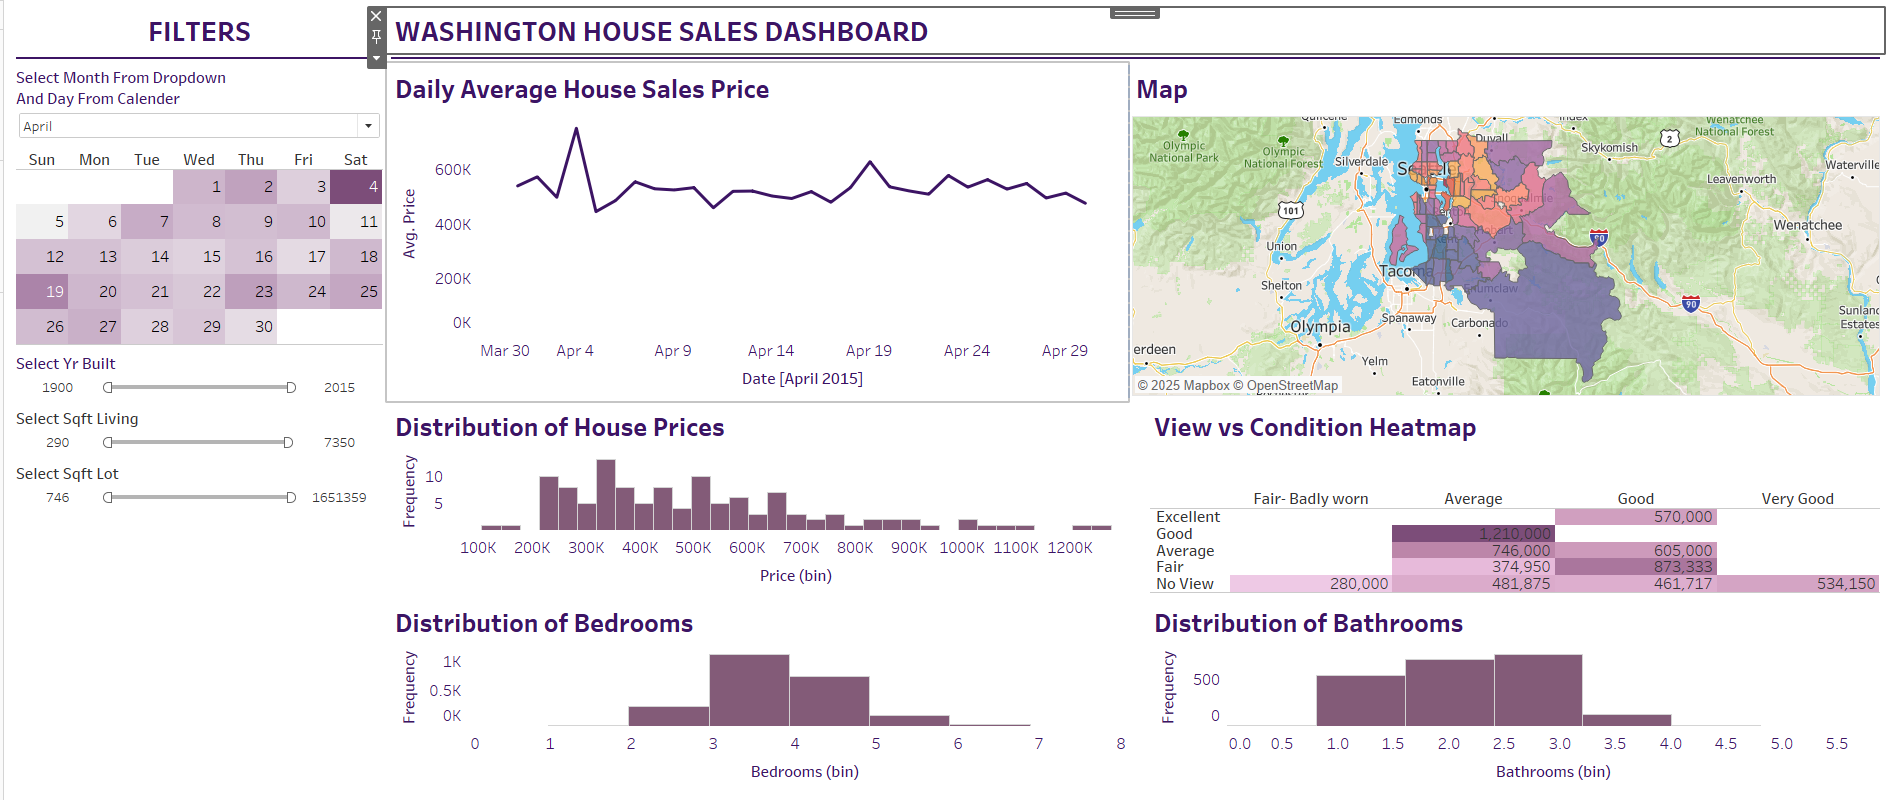

What the dashboard file says about the page in this screenshot:
{"tool":"tableau","page":{"name":"Dashboard 1","canvas":[1000,1000],"units":"permille","ordinal":0},"visuals":[{"type":"text","box":[4.8,10,198.5,56.2]},{"type":"text","box":[203.4,10,791.8,56.2]},{"type":"blank","box":[4.8,66.2,198.5,12.5]},{"type":"blank","box":[203.4,66.2,791.8,12.5]},{"type":"filter","title":"Calender","param":"[federated.1989wvo19cfbg0103rsj703m2zud].[mn:date:ok]","box":[4.8,78.7,198.5,102.4]},{"type":"worksheet","title":"DailyAvgSales","mark":"Automatic","rows":["price"],"cols":["date"],"box":[203.4,78.7,391.4,421.3]},{"type":"worksheet","title":"Map","mark":"Automatic","box":[594.7,78.7,400.4,421.3]},{"type":"worksheet","title":"Calender","mark":"Square","rows":["date"],"cols":["date"],"box":[4.8,181,198.5,254.7]},{"type":"filter","title":"Calender","param":"[federated.1989wvo19cfbg0103rsj703m2zud].[none:yr_built:qk]","box":[4.8,435.7,198.5,68.7]},{"type":"worksheet","title":"Histogram house price","mark":"Automatic","rows":["price"],"cols":["Price (bin)"],"box":[203.4,500,401.3,245]},{"type":"worksheet","title":"Heatmap","mark":"Square","rows":["view"],"cols":["condition"],"box":[604.7,500,390.5,245]},{"type":"filter","title":"Calender","param":"[federated.1989wvo19cfbg0103rsj703m2zud].[none:sqft_living:qk]","box":[4.8,504.4,198.5,68.7]},{"type":"filter","title":"Calender","param":"[federated.1989wvo19cfbg0103rsj703m2zud].[none:sqft_lot:qk]","box":[4.8,573.1,198.5,68.7]},{"type":"worksheet","title":"Bedrooms","mark":"Automatic","rows":["bedrooms"],"cols":["Bedrooms (bin)"],"box":[203.4,745,401.3,245]},{"type":"worksheet","title":"Bathrooms","mark":"Automatic","rows":["bathrooms"],"cols":["Bathrooms (bin)"],"box":[604.7,745,390.5,245]}]}

Visuals, with their boxes on the dashboard's canvas, which has no fixed pixel size, in thousandths of its width and height (x1, y1, x2, y2). These are canvas units, not pixel positions in the 1887x800 screenshot, which may show the page scaled, cropped or inside an application window:
text: {"x1": 5, "y1": 10, "x2": 203, "y2": 66}
text: {"x1": 203, "y1": 10, "x2": 995, "y2": 66}
blank: {"x1": 5, "y1": 66, "x2": 203, "y2": 79}
blank: {"x1": 203, "y1": 66, "x2": 995, "y2": 79}
"Calender" filter: {"x1": 5, "y1": 79, "x2": 203, "y2": 181}
"DailyAvgSales" worksheet: {"x1": 203, "y1": 79, "x2": 595, "y2": 500}
"Map" worksheet: {"x1": 595, "y1": 79, "x2": 995, "y2": 500}
"Calender" worksheet (Square marks): {"x1": 5, "y1": 181, "x2": 203, "y2": 436}
"Calender" filter: {"x1": 5, "y1": 436, "x2": 203, "y2": 504}
"Histogram house price" worksheet: {"x1": 203, "y1": 500, "x2": 605, "y2": 745}
"Heatmap" worksheet (Square marks): {"x1": 605, "y1": 500, "x2": 995, "y2": 745}
"Calender" filter: {"x1": 5, "y1": 504, "x2": 203, "y2": 573}
"Calender" filter: {"x1": 5, "y1": 573, "x2": 203, "y2": 642}
"Bedrooms" worksheet: {"x1": 203, "y1": 745, "x2": 605, "y2": 990}
"Bathrooms" worksheet: {"x1": 605, "y1": 745, "x2": 995, "y2": 990}
